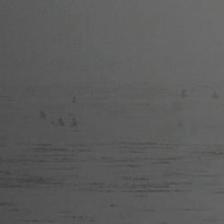surfer: (210, 91, 220, 99), (180, 90, 190, 98), (38, 110, 46, 118), (57, 118, 64, 126), (70, 96, 77, 104), (72, 117, 78, 126)
